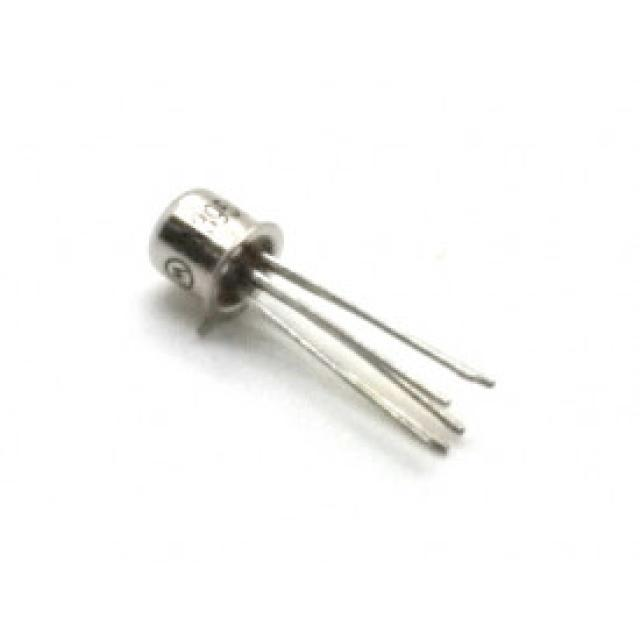Transistor: (142, 181, 497, 457)
